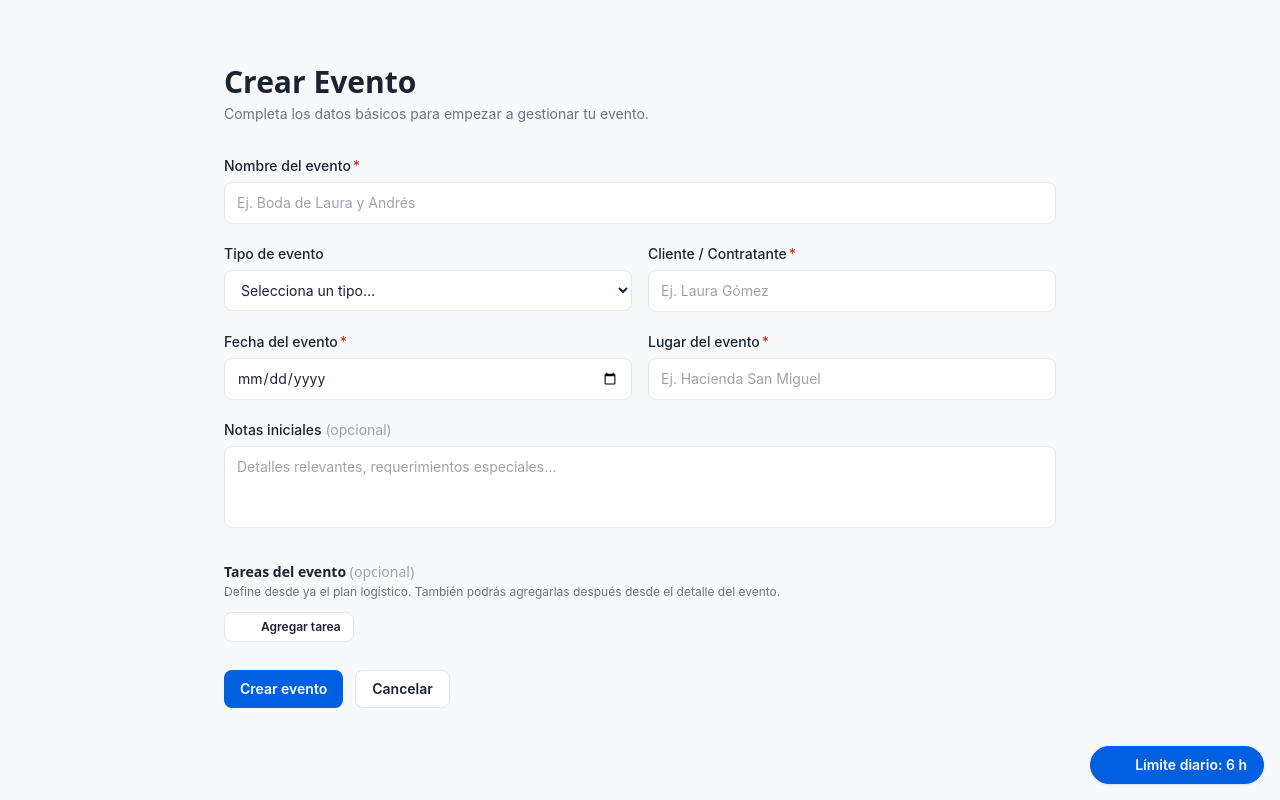
it: CreatePage › valida campos obligatorios antes de crear
Click the button "Crear evento" at (284, 689), box [224, 670, 343, 708]
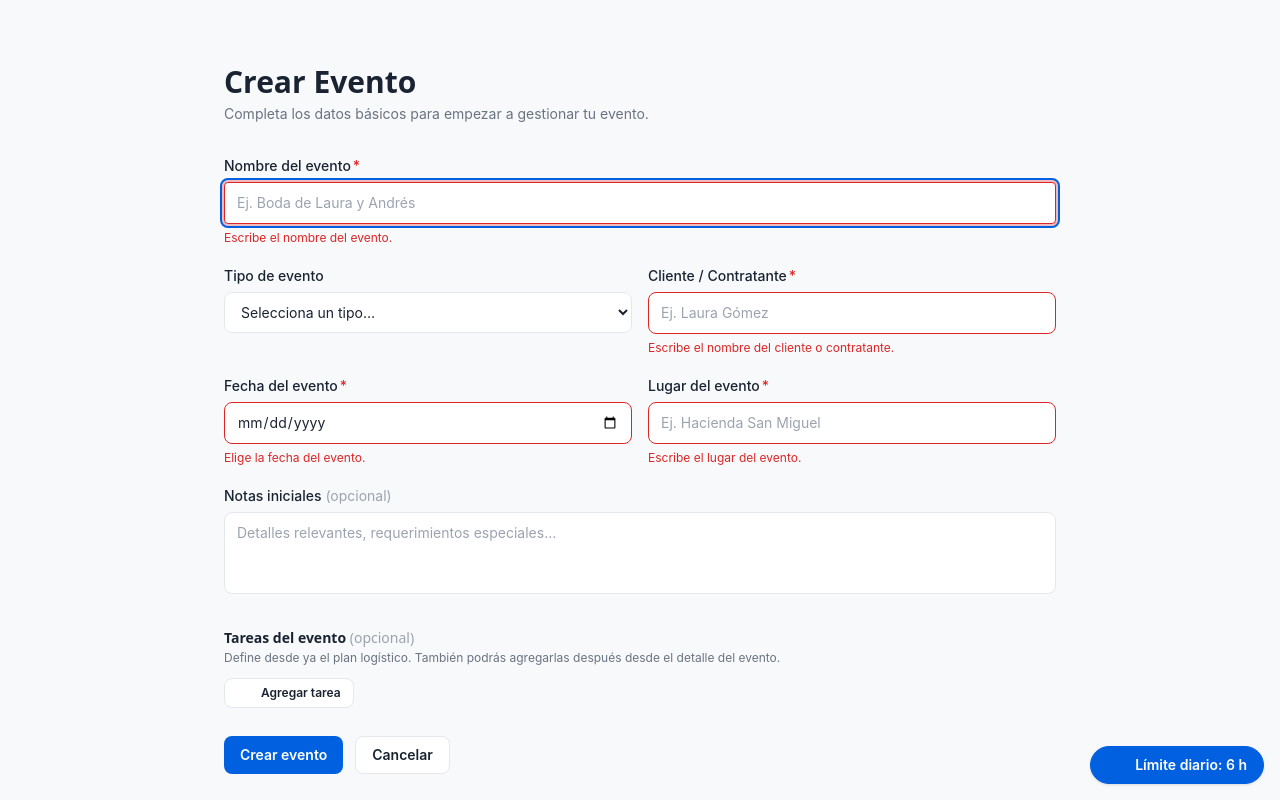
Check: the text "Escribe el nombre del evento." is shown, box [224, 230, 392, 245]
